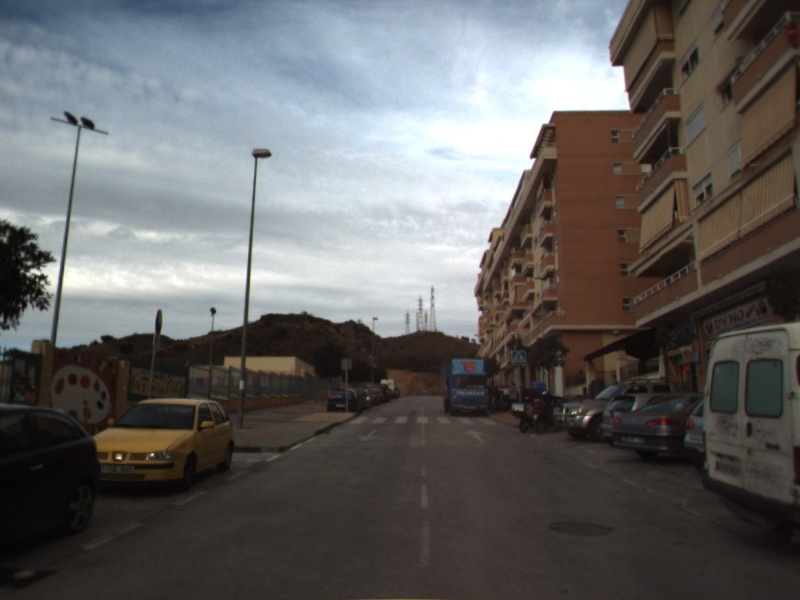STRAIGHT: (462, 426, 488, 445)
